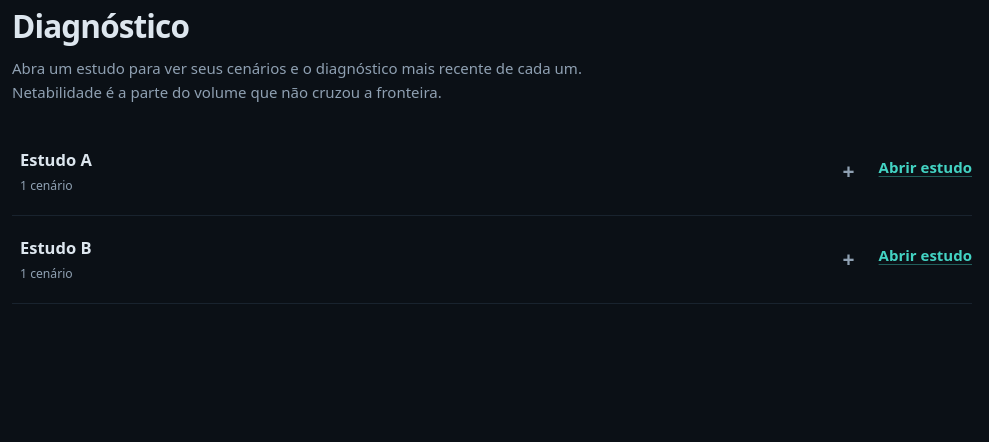
Test case: DiagnosticsHubPage › carrega apenas o estudo expandido e compartilha a leitura após recolher e expandir durante o carregamento
Click the button with aria-label "Mostrar diagnósticos de Estudo A".
click(56, 160)  # box 12,140 -> 863,203
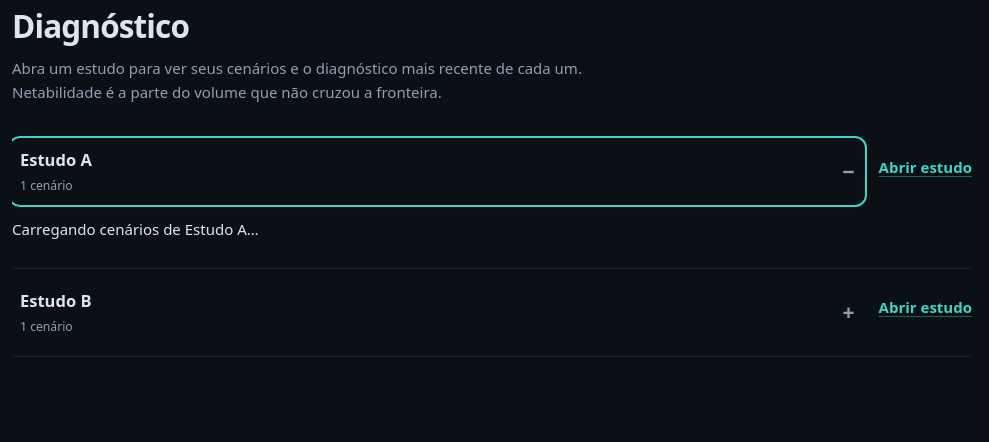
expect the message shows "Carregando cenários de Estudo A": met, box 12,219 -> 259,239
Click the button named "Mostrar diagnósticos de Estudo A".
click(56, 160)  # box 12,140 -> 863,203
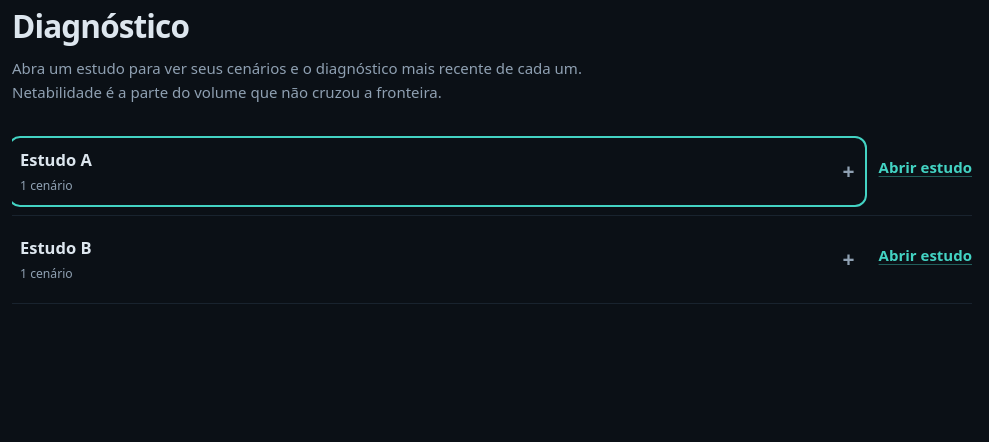
Click the button with aria-label "Mostrar diagnósticos de Estudo A".
click(56, 160)  # box 12,140 -> 863,203
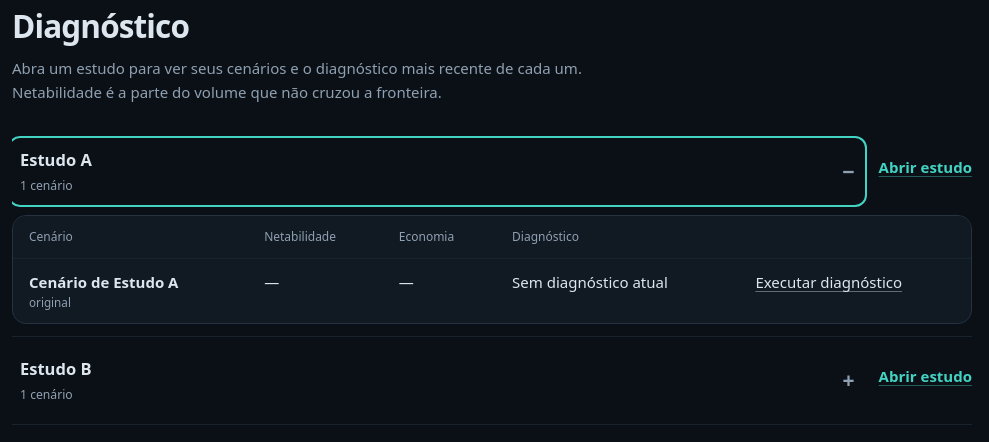
expect the element named "Cenários de Estudo A" is shown: met, box 12,215 -> 972,324
